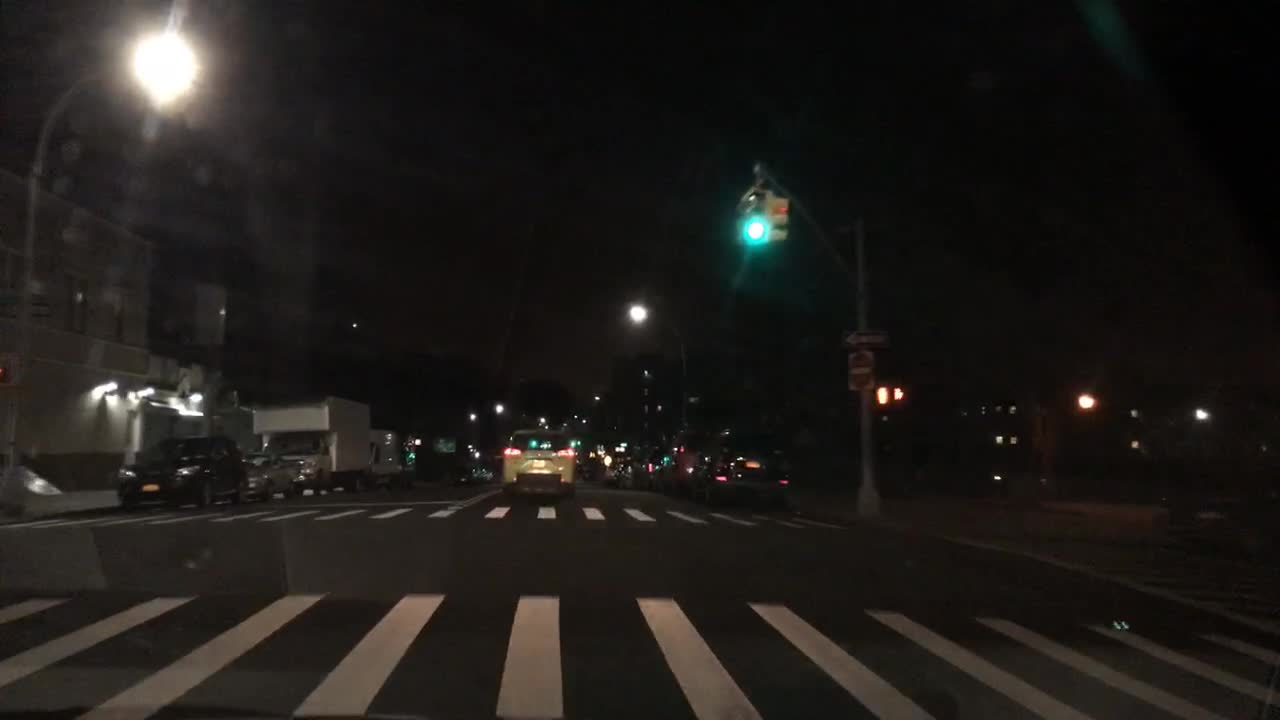car: (115, 433, 250, 514), (702, 418, 797, 500), (500, 427, 578, 501), (245, 449, 296, 495), (667, 428, 705, 487), (613, 446, 642, 491), (641, 441, 670, 485), (598, 448, 615, 489), (583, 448, 599, 486)
traffic light: (749, 190, 767, 250), (772, 190, 789, 245), (889, 381, 911, 404), (877, 380, 891, 405)
traffic sign: (844, 332, 893, 347), (847, 350, 876, 371), (432, 437, 457, 455), (847, 375, 874, 390)
truck: (252, 398, 372, 494), (366, 428, 403, 477)
